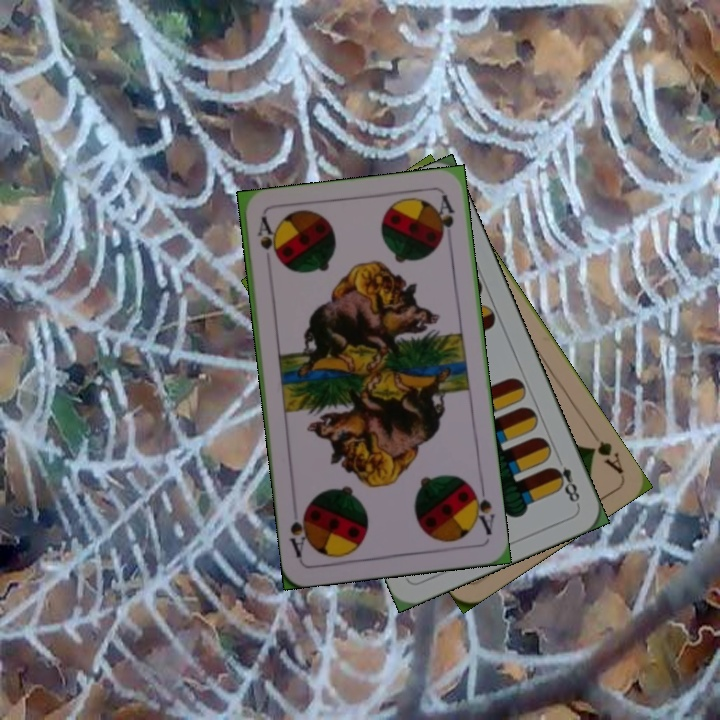E8: (547, 462, 583, 508)
GA: (585, 425, 626, 477)
SA: (466, 480, 497, 538), (253, 214, 279, 262)
